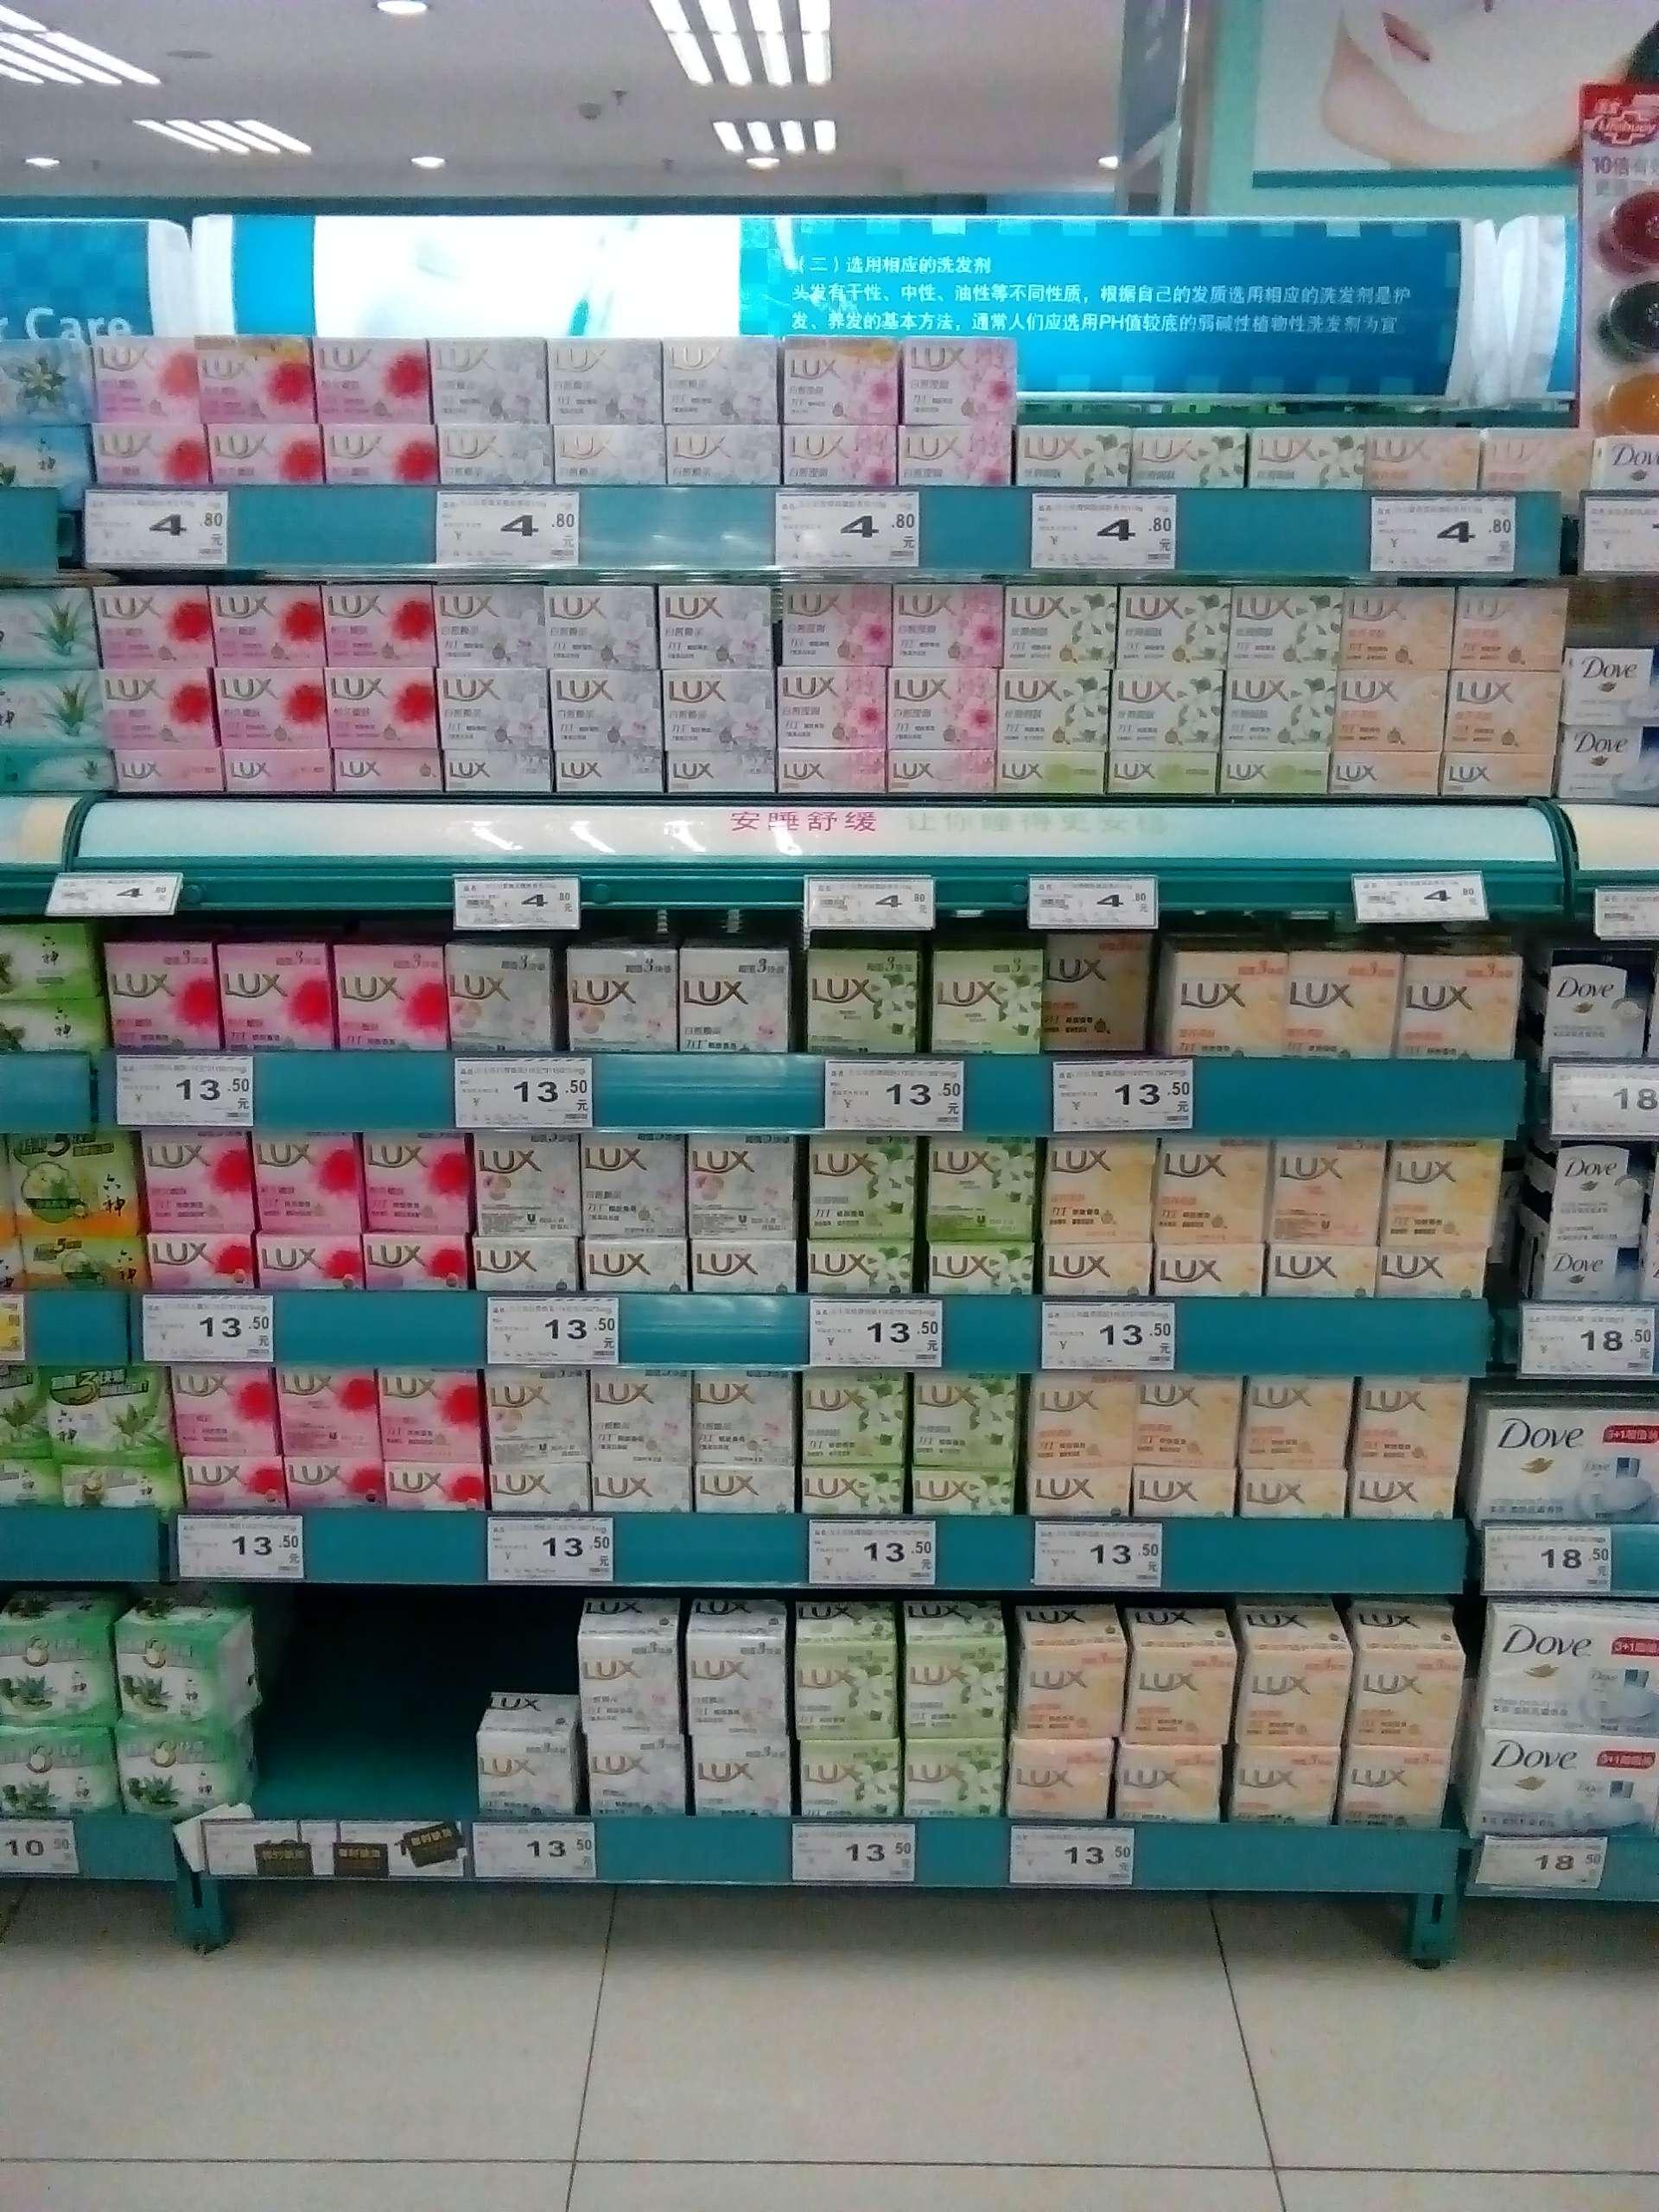empty: (258, 1625, 483, 1829)
